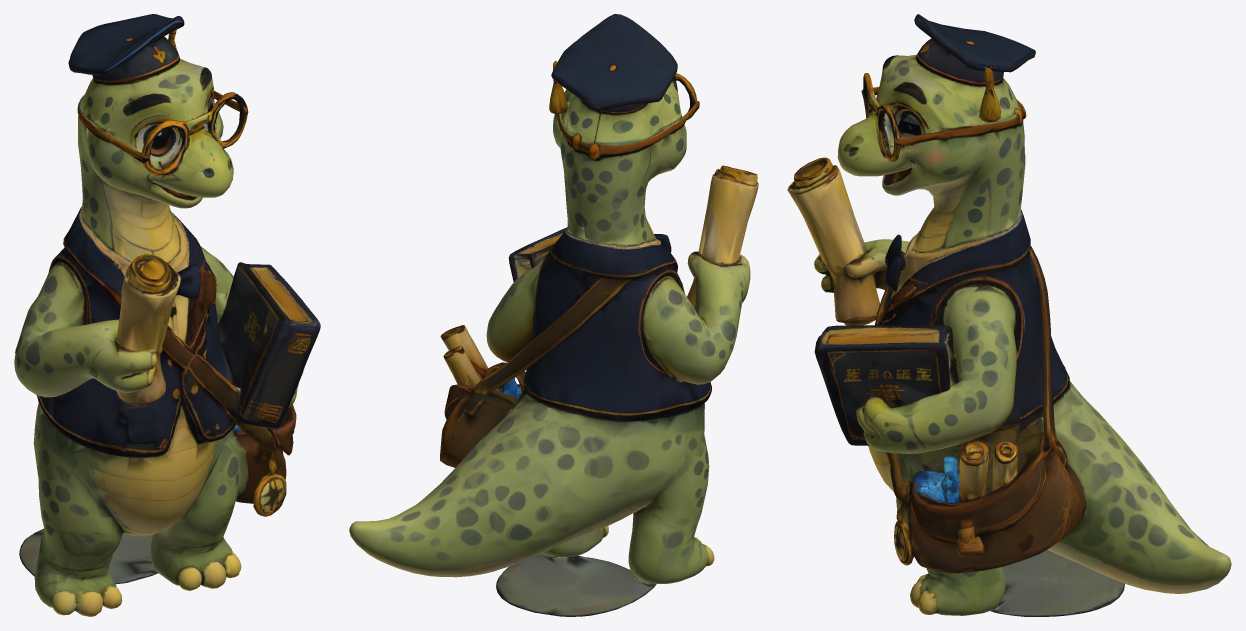
Rendered from rekishi.glb.
3 views of the same model, side by side, from view 1: azimuth 30°, elevation 25°; view 2: azimuth 150°, elevation 25°; view 3: azimuth 270°, elevation 25° (orthographic). The views are drawn at different scales.
Visible parts, largest first — view 1: tripo_node_c2c8802b-6ef7-44bd-bfa3-f282b53f7fad; view 2: tripo_node_c2c8802b-6ef7-44bd-bfa3-f282b53f7fad; view 3: tripo_node_c2c8802b-6ef7-44bd-bfa3-f282b53f7fad.
Part boxes in pixels (x1,y1,x2,y2): tripo_node_c2c8802b-6ef7-44bd-bfa3-f282b53f7fad: [14, 14, 320, 616]; tripo_node_c2c8802b-6ef7-44bd-bfa3-f282b53f7fad: [349, 14, 758, 616]; tripo_node_c2c8802b-6ef7-44bd-bfa3-f282b53f7fad: [787, 14, 1231, 616].
Bounding box in the file's own units: 0.5446 × 0.9998 × 0.7037.
Materials: 1 (1 with a texture image).
